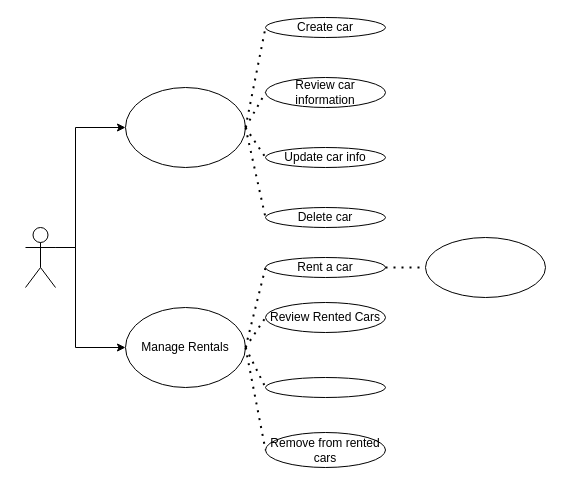
The diagram is 563 pixels wide and 485 high, and some of its shapes have lost their labels. The centre of each missing label's shape, as x and y in pixels:
Manage Cars: pixel 185 127
Manager: pixel 40 257
Register customer information: pixel 485 267
Update Rent Info: pixel 325 387
